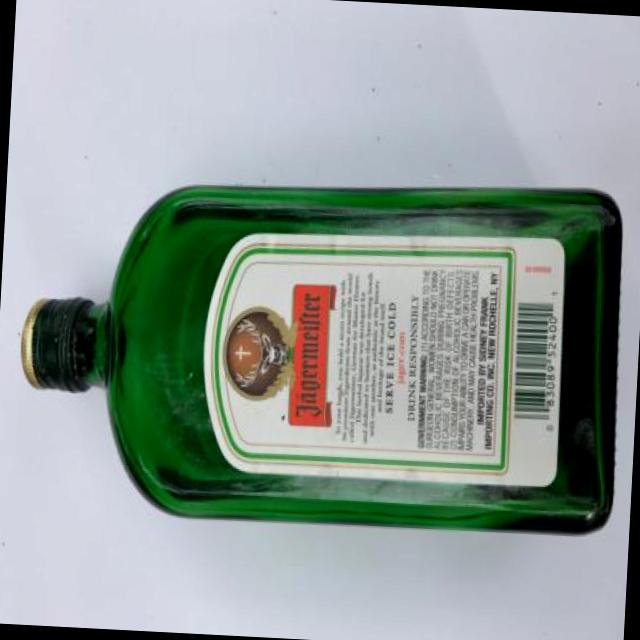chai_thuy_tinh: (21, 189, 625, 540)
